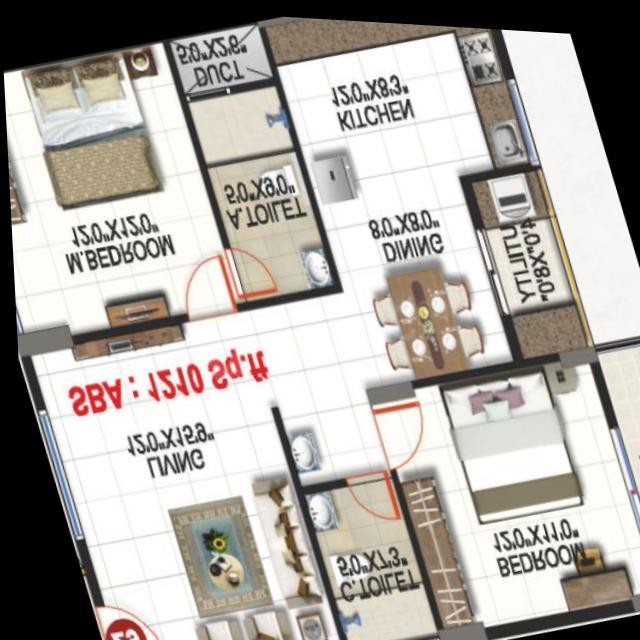Balcony-Sitout: (591, 336, 640, 519)
Bedroom: (369, 358, 640, 624)
Bedroom with Toilet: (3, 37, 338, 350)
Dining: (356, 243, 493, 385)
Enterance-Foyer: (86, 589, 158, 640)
Kitchen: (263, 14, 535, 205)
Living: (20, 308, 335, 640)
Toilet: (182, 77, 331, 296), (297, 470, 430, 640)
Utility: (468, 165, 582, 350)
